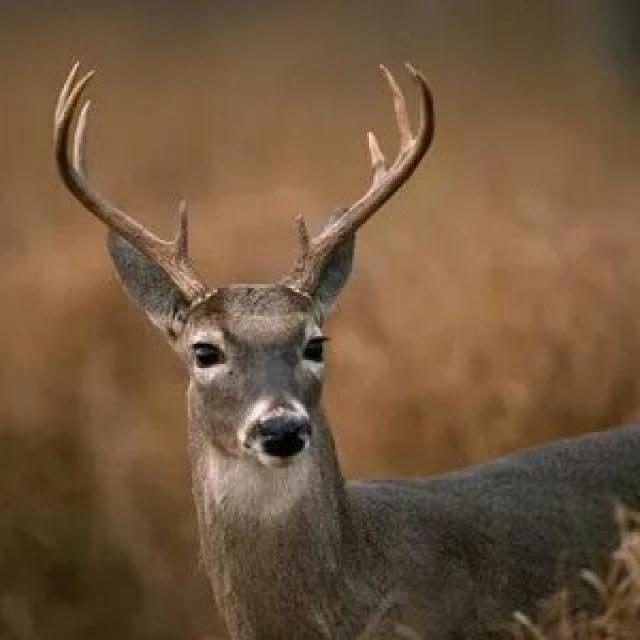deer: (47, 52, 640, 640)
